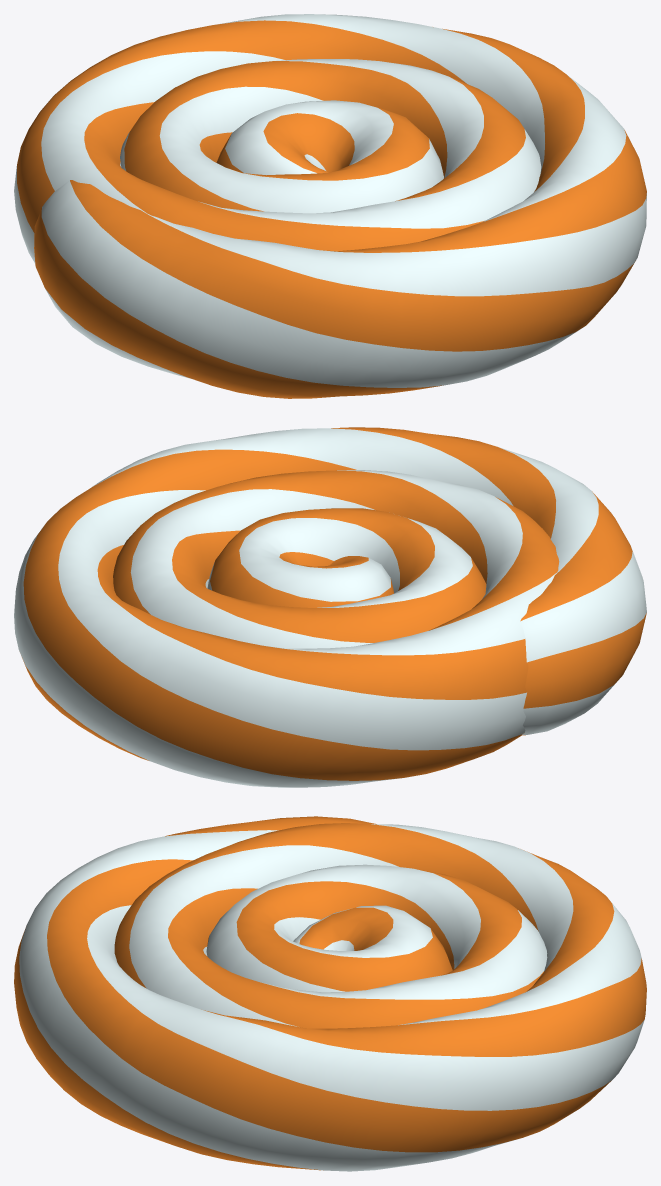
The model's file is Swirly_02.fbx.
3 views of the same model, one above another, from view 1: azimuth 30°, elevation 25°; view 2: azimuth 150°, elevation 25°; view 3: azimuth 270°, elevation 25° (orthographic). The views are drawn at different scales.
Visible parts, largest first — view 1: Swirly_02_LOD0; view 2: Swirly_02_LOD0; view 3: Swirly_02_LOD0.
Boxes of the visible parts, box(x1,y1,x2,y2) form: Swirly_02_LOD0: box(14, 14, 646, 398); Swirly_02_LOD0: box(14, 427, 646, 787); Swirly_02_LOD0: box(14, 816, 646, 1171).
Size of what is drawn, in the model's own units: 517 by 130 by 534.
